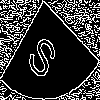S: (24, 25, 64, 83)
